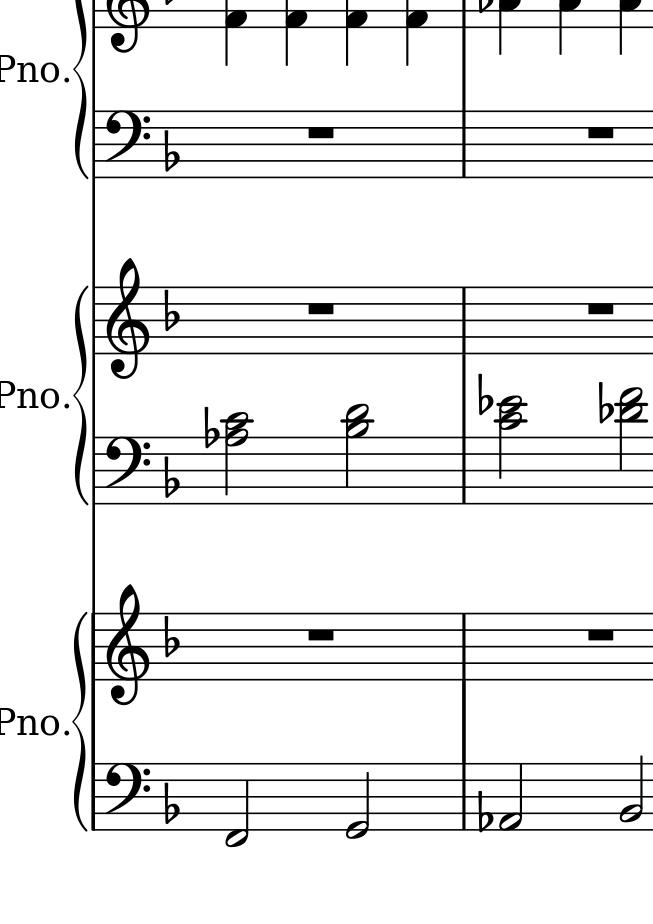2_-1: (223, 761, 251, 849)
2_0: (345, 760, 372, 841)
2_1: (495, 762, 526, 831)
2_10_12: (495, 393, 525, 506)
2_13_15: (614, 386, 646, 505)
2_2: (617, 753, 646, 831)
2_8_10: (221, 411, 253, 506)
2_9_11: (341, 401, 373, 506)
Brace: (70, 284, 90, 508), (69, 610, 89, 832)
Fclef: (105, 434, 156, 505), (104, 109, 153, 180), (103, 761, 151, 832)
Flat: (161, 124, 182, 171), (161, 612, 181, 661), (201, 404, 221, 449), (161, 783, 181, 825), (476, 368, 493, 417), (162, 456, 181, 499), (475, 787, 493, 831), (598, 376, 614, 424), (164, 287, 181, 331)
Gclef: (103, 583, 150, 708), (104, 257, 150, 380)
Pno: (1, 379, 64, 411), (1, 706, 61, 738), (1, 54, 61, 84)
Rests1: (303, 625, 342, 647), (306, 298, 342, 321), (583, 625, 624, 645), (586, 121, 616, 143), (305, 123, 337, 140), (586, 301, 620, 315)
Single_barline: (454, 761, 474, 829), (455, 110, 473, 178), (456, 436, 472, 504), (456, 615, 472, 679), (88, 611, 102, 681), (456, 289, 471, 353), (88, 285, 101, 355), (88, 110, 101, 179), (88, 437, 101, 505), (88, 763, 101, 831)
